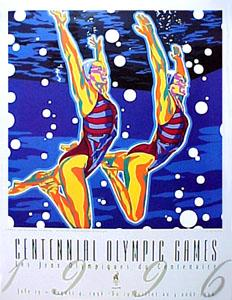person: (115, 15, 203, 234), (31, 18, 123, 227)
